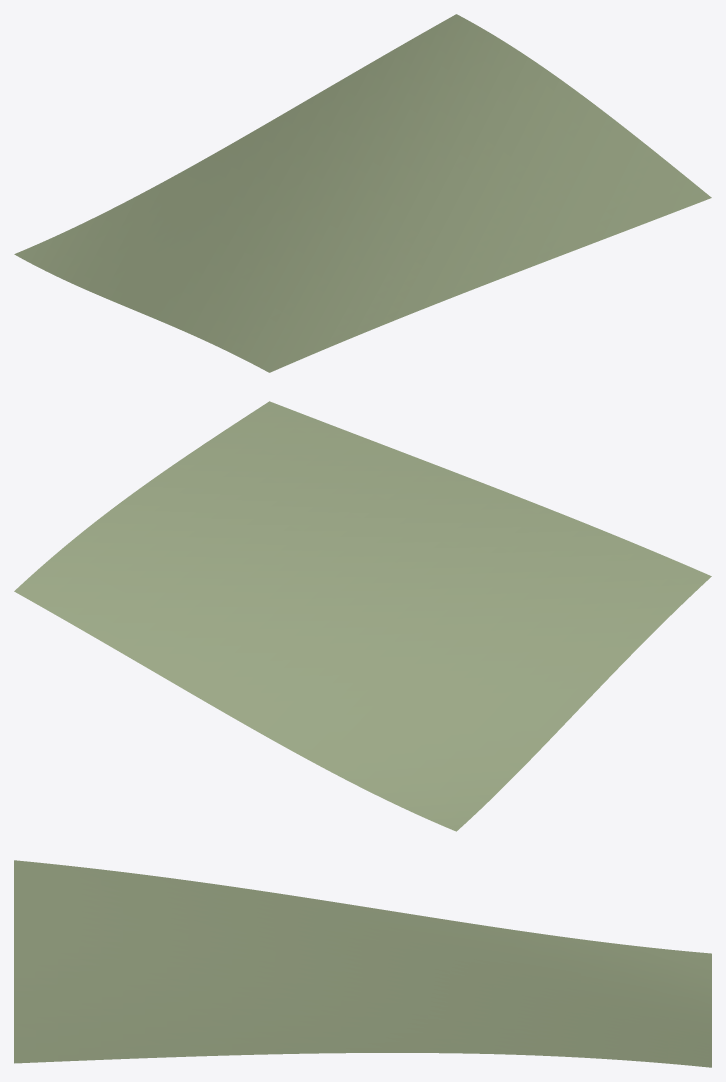
File: expanse-15-18.glb
The picture shows the model from 3 angles, top to bottom: view 1: azimuth 30°, elevation 25°; view 2: azimuth 150°, elevation 25°; view 3: azimuth 270°, elevation 25°; orthographic projection. The views are drawn at different scales.
Visible parts, largest first — view 1: expanse-15-18; view 2: expanse-15-18; view 3: expanse-15-18.
Part boxes in pixels (<box>): expanse-15-18: <box>14,14,711,372</box>; expanse-15-18: <box>14,401,711,831</box>; expanse-15-18: <box>14,860,711,1067</box>.
Bounding box in the file's own units: 256 × 79.16 × 256.
